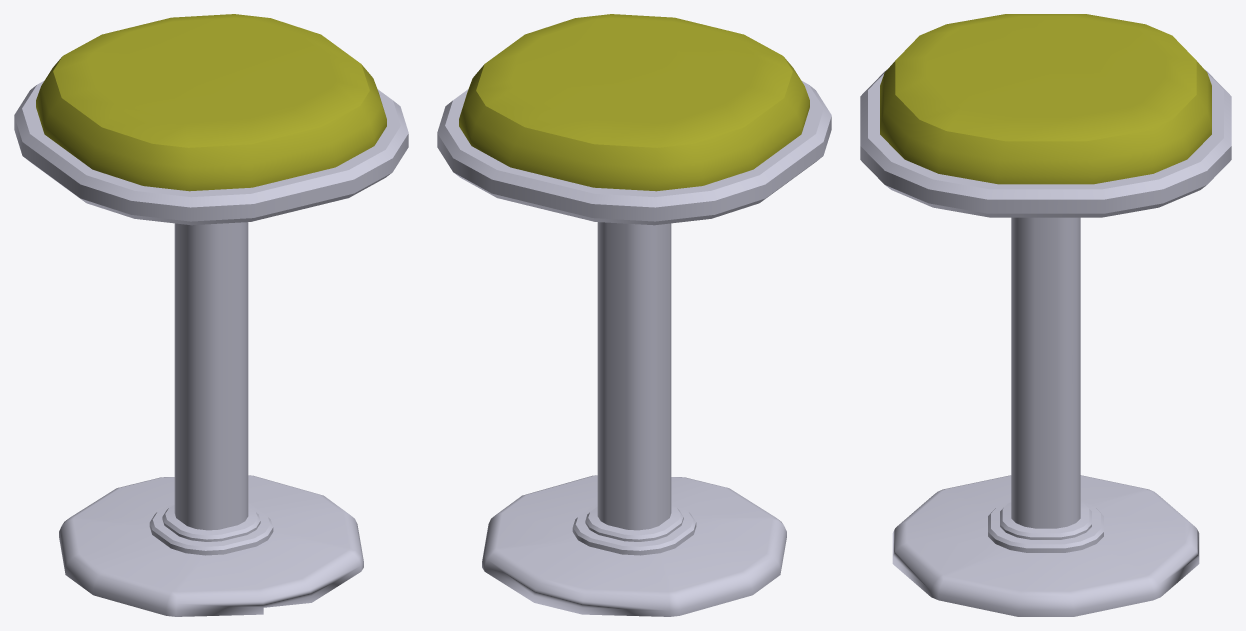
Rendered from Stool.fbx.
3 renders of one model, left to right at view 1: azimuth 30°, elevation 25°; view 2: azimuth 150°, elevation 25°; view 3: azimuth 270°, elevation 25°, orthographic.
Visible parts, largest first — view 1: polySurface7171; view 2: polySurface7171; view 3: polySurface7171.
Part boxes in pixels (x1,y1,x2,y2): polySurface7171: (14,14,408,616); polySurface7171: (437,14,831,616); polySurface7171: (860,14,1231,616).
Size of the model in its own units: 0.5518 by 0.7946 by 0.5518.
